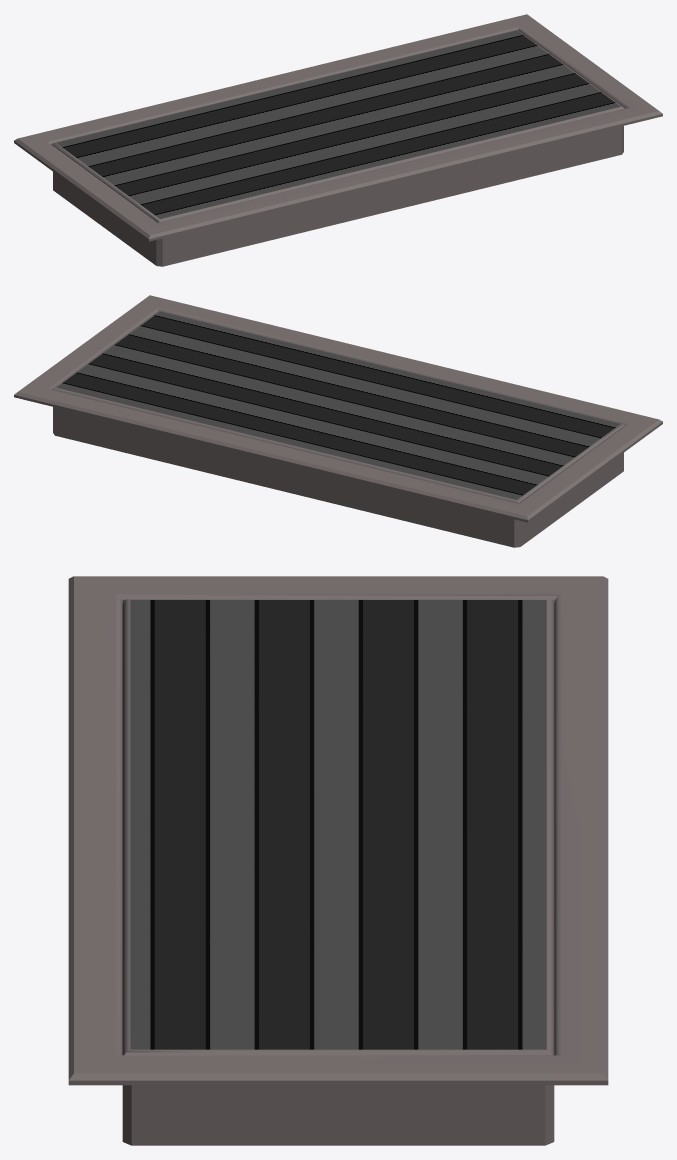
The model's file is Platform_01.fbx.
3 views of the same model, one above another, from view 1: azimuth 30°, elevation 25°; view 2: azimuth 150°, elevation 25°; view 3: azimuth 270°, elevation 25° (orthographic). The views are drawn at different scales.
Visible parts, largest first — view 1: Room_Platform; view 2: Room_Platform; view 3: Room_Platform.
Part boxes in pixels (bbox=[...]): Room_Platform: bbox=[14, 14, 662, 266]; Room_Platform: bbox=[14, 295, 662, 547]; Room_Platform: bbox=[68, 576, 608, 1145].
Bounding box in the file's own units: 550 × 47.5 × 250.
1 material, 1 textured.
